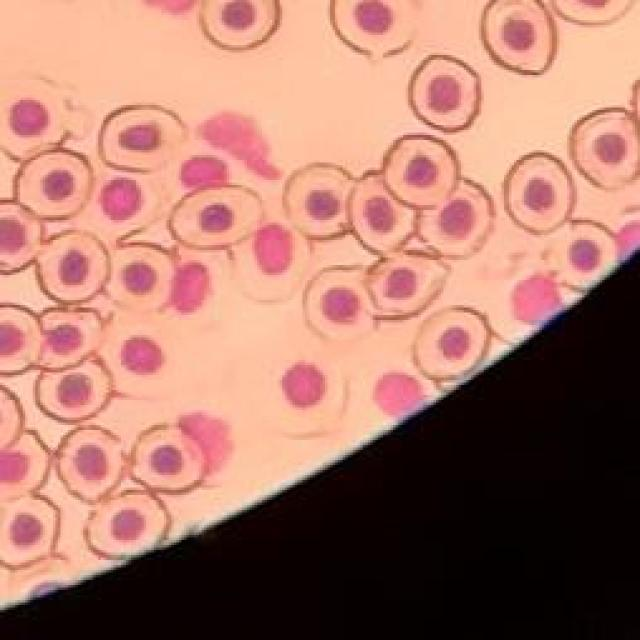RBC: (227, 195, 314, 305), (0, 71, 73, 162), (302, 264, 382, 344), (79, 166, 167, 238), (366, 250, 452, 320), (170, 185, 262, 249), (418, 180, 493, 258), (504, 152, 574, 233), (383, 135, 459, 209), (87, 491, 169, 559), (481, 0, 556, 74), (543, 220, 619, 293), (100, 105, 184, 171), (571, 108, 639, 189), (414, 308, 490, 379), (409, 55, 479, 131), (283, 164, 353, 239), (350, 172, 414, 253), (16, 150, 92, 218), (330, 0, 416, 59), (38, 232, 108, 302), (132, 426, 205, 491), (58, 428, 121, 501), (37, 360, 111, 421), (107, 244, 174, 311), (0, 496, 58, 567), (202, 0, 280, 50), (40, 309, 102, 369), (0, 432, 49, 499), (0, 202, 40, 272), (0, 305, 40, 374), (553, 1, 631, 24)
WBC: (202, 112, 280, 179), (179, 412, 232, 473), (374, 372, 425, 416), (513, 278, 561, 322), (282, 362, 325, 408), (171, 262, 209, 312), (121, 336, 163, 374), (181, 158, 227, 188)
